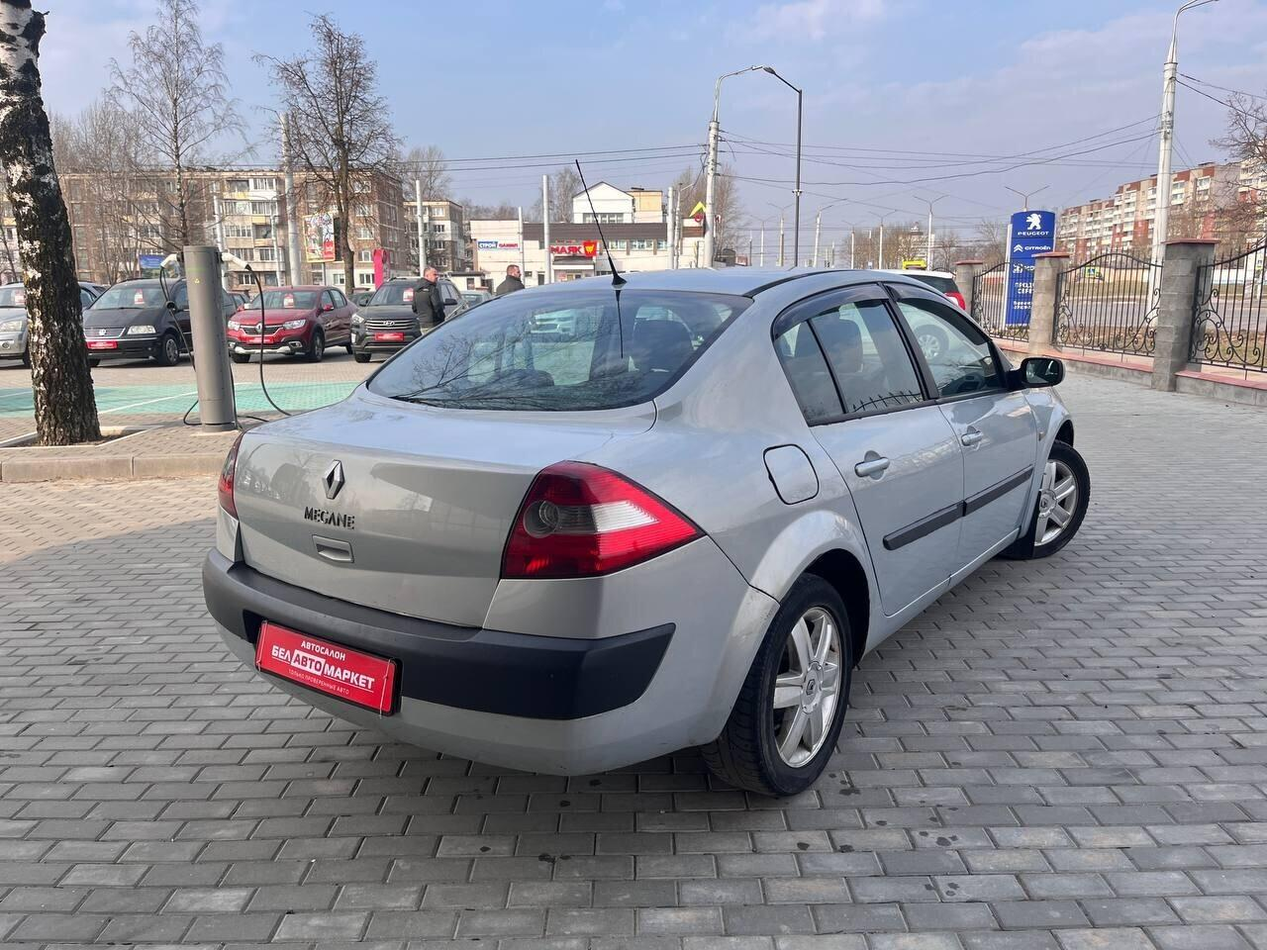Megane_2002-2006: (204, 261, 1102, 818)
